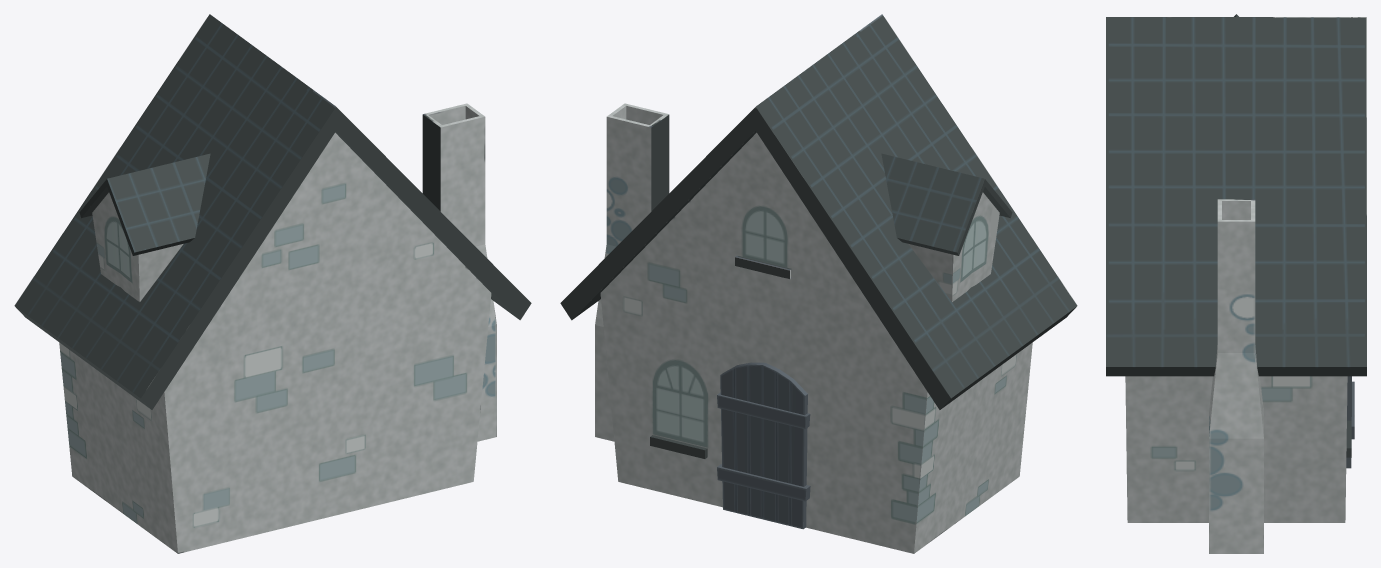
The model's file is 鄉間小屋_2.fbx.
3 views of the same model, side by side, from view 1: azimuth 30°, elevation 25°; view 2: azimuth 150°, elevation 25°; view 3: azimuth 270°, elevation 25° (orthographic). The views are drawn at different scales.
Parts seen in each view (by area): view 1: pCube13; view 2: pCube13; view 3: pCube13.
Boxes of the visible parts, bbox=[...] form: pCube13: bbox=[14, 14, 531, 553]; pCube13: bbox=[560, 14, 1077, 553]; pCube13: bbox=[1106, 14, 1366, 553].
Size of the model in its own units: 27.14 by 26.75 by 14.65.
